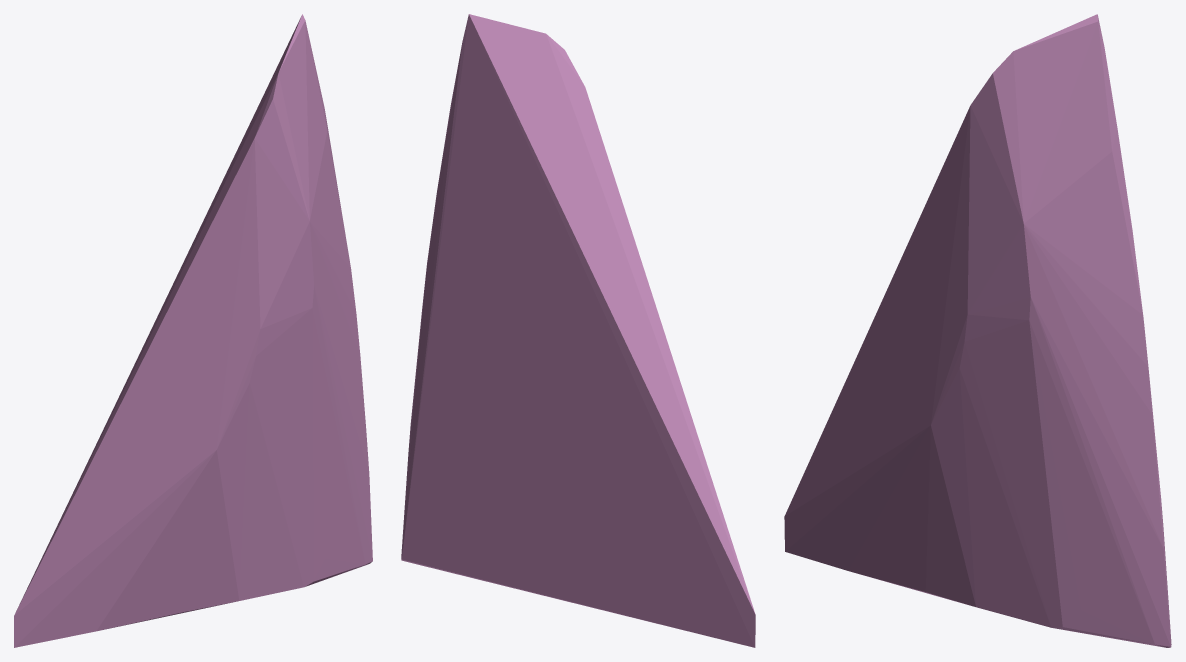
Rendered from bodyPart_fender_front_c01.glb.
3 renders of one model, left to right at view 1: azimuth 30°, elevation 25°; view 2: azimuth 150°, elevation 25°; view 3: azimuth 330°, elevation 25°, orthographic. The views are drawn at different scales.
Visible parts, largest first — view 1: geometry_0; view 2: geometry_0; view 3: geometry_0.
Boxes of the visible parts, bbox=[...] form: geometry_0: bbox=[14, 14, 372, 647]; geometry_0: bbox=[401, 14, 755, 647]; geometry_0: bbox=[784, 14, 1171, 647].
Size of the model in its own units: 0.317 by 0.4794 by 0.0607.
